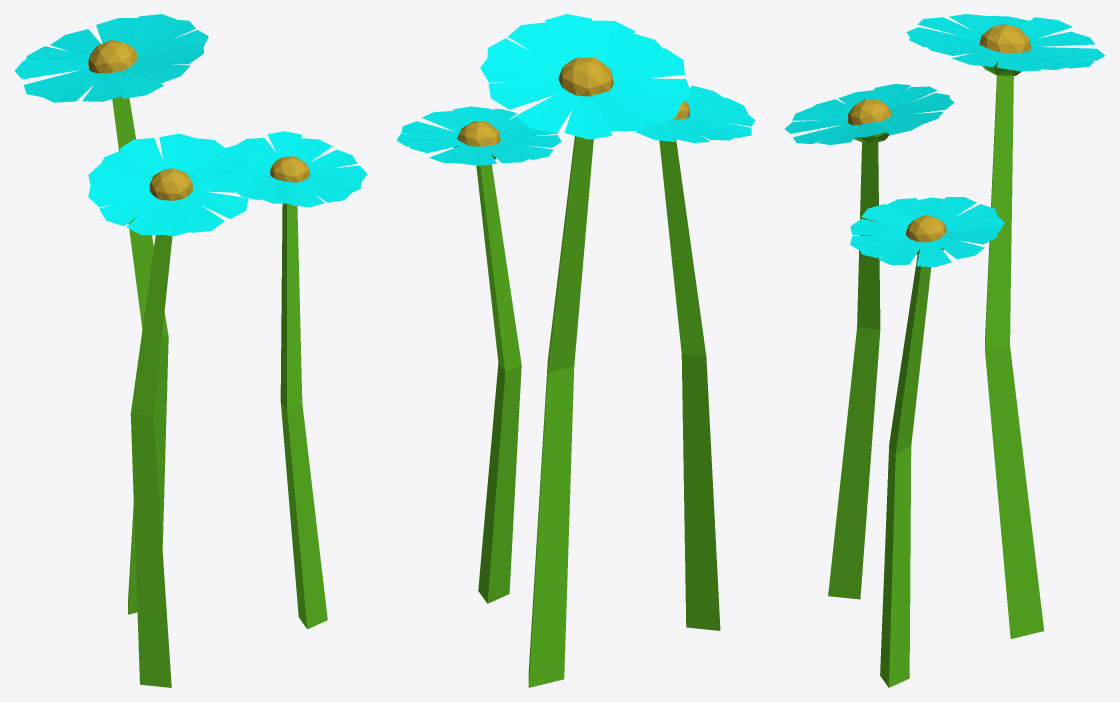
File: flower.obj
3 views of the same model, side by side, from view 1: azimuth 30°, elevation 25°; view 2: azimuth 150°, elevation 25°; view 3: azimuth 270°, elevation 25° (orthographic). The views are drawn at different scales.
Parts seen in each view (by area): view 1: Cylinder; view 2: Cylinder; view 3: Cylinder.
Part boxes in pixels (left/top/right/bottom): Cylinder: left=14, top=14, right=366, bottom=687; Cylinder: left=396, top=14, right=755, bottom=687; Cylinder: left=785, top=14, right=1105, bottom=687.
Size of the model in its own units: 0.1522 by 0.2912 by 0.1435.
